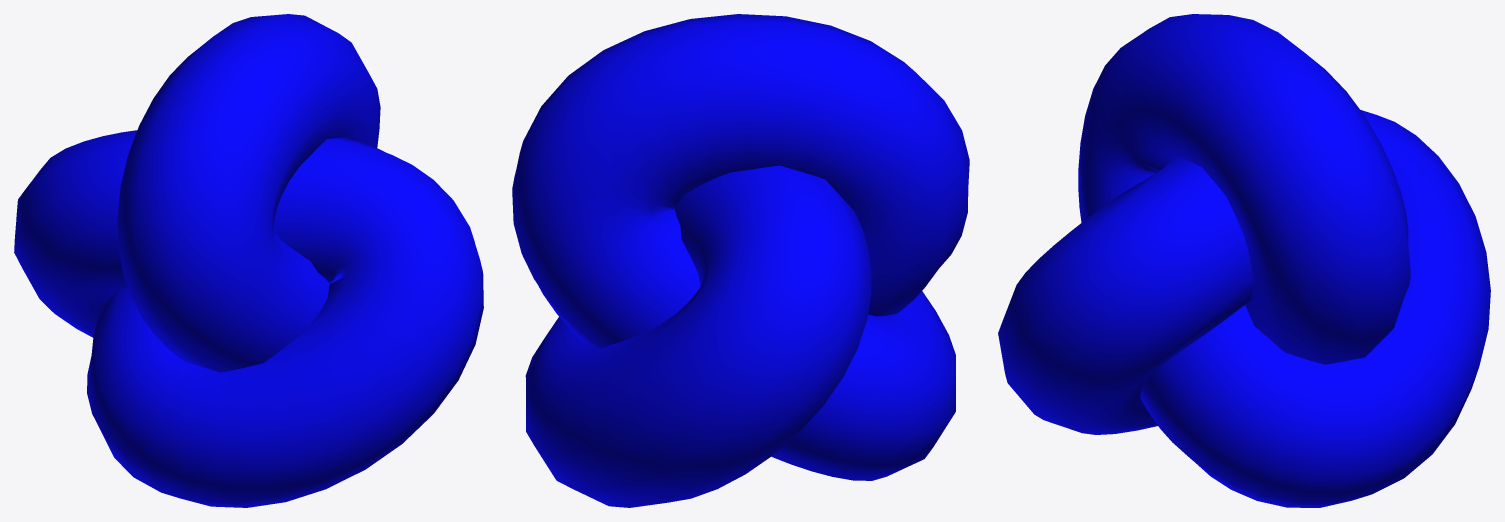
3 renders of one model, left to right at view 1: azimuth 30°, elevation 25°; view 2: azimuth 150°, elevation 25°; view 3: azimuth 270°, elevation 25°, orthographic. The views are drawn at different scales.
Visible parts, largest first — view 1: Torus Knot001; view 2: Torus Knot001; view 3: Torus Knot001.
Boxes of the visible parts, box(x1,y1,x2,y2) form: Torus Knot001: box(14, 14, 483, 507); Torus Knot001: box(512, 14, 969, 507); Torus Knot001: box(998, 14, 1490, 507).
Size of the model in its own units: 17.59 by 22.73 by 21.56.
